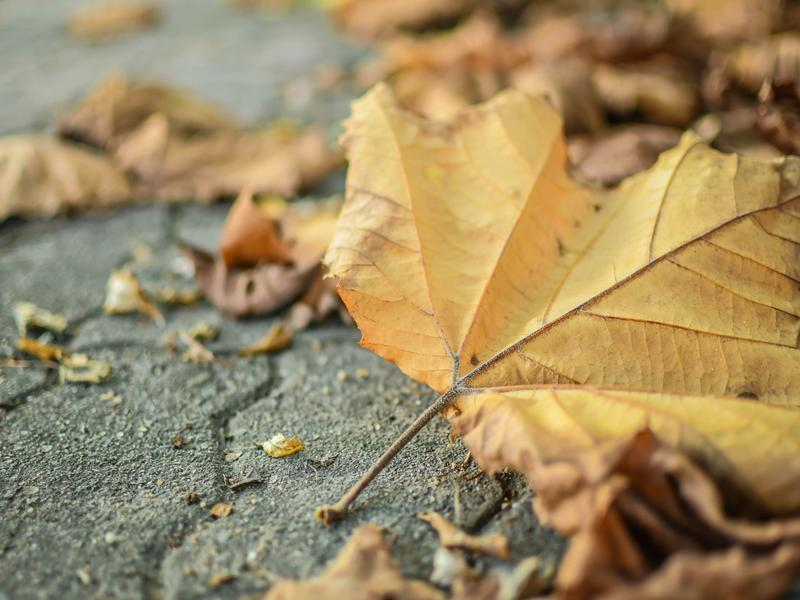leaf: (314, 50, 800, 523)
